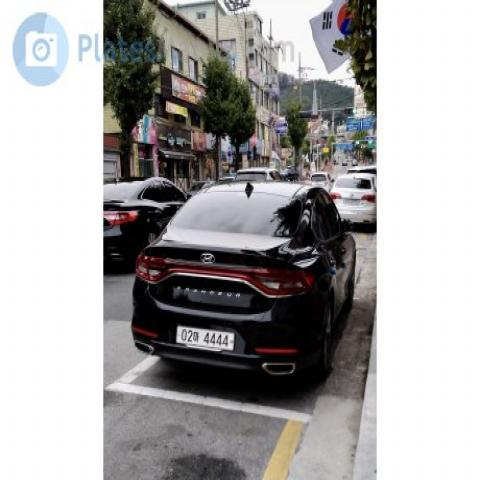LP: (171, 318, 244, 362), (340, 194, 364, 213)
